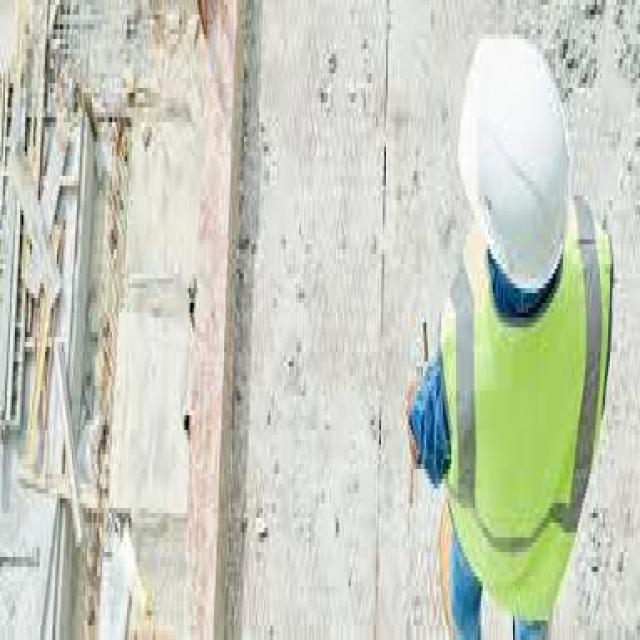Reflective-Jacket: (428, 210, 623, 625)
Safety-Helmet: (453, 15, 578, 293)
